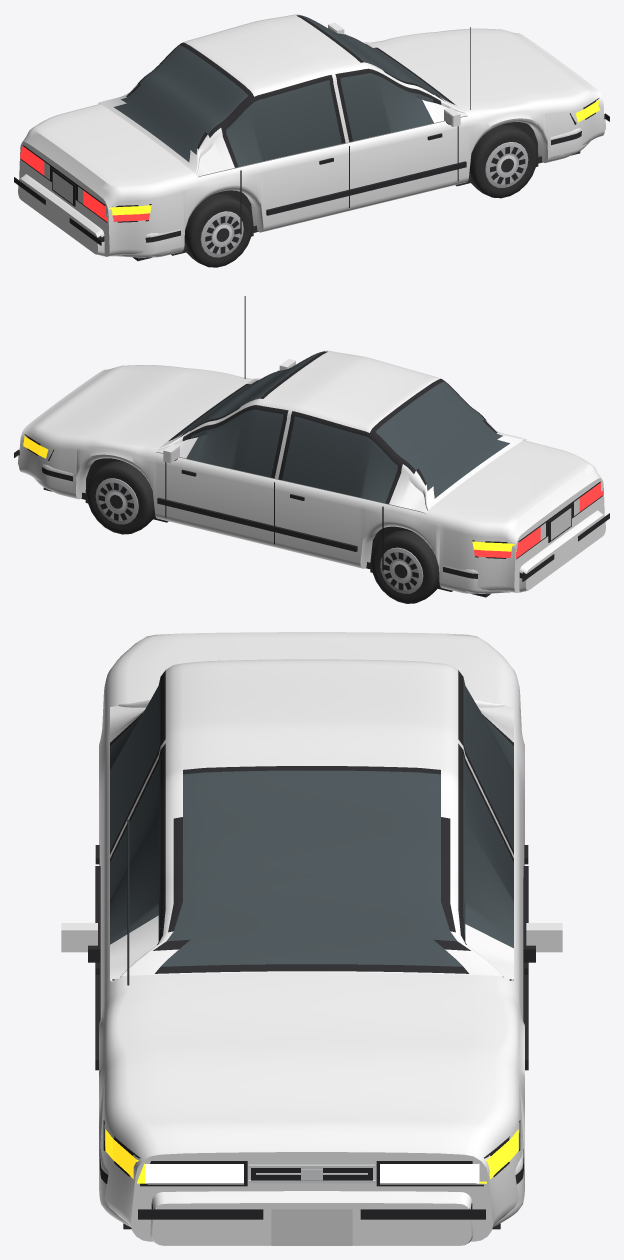
File: car_sedan.glb
3 renders of one model, top to bottom at view 1: azimuth 30°, elevation 25°; view 2: azimuth 150°, elevation 25°; view 3: azimuth 270°, elevation 25°, orthographic. The views are drawn at different scales.
Visible parts, largest first — view 1: body, wheel_RR, wheel_FR; view 2: body, wheel_RL, wheel_FL; view 3: body.
Boxes of the visible parts, <box> form: body: <box>14,14,609,261</box>; wheel_RR: <box>184,194,252,267</box>; wheel_FR: <box>469,125,537,198</box>; body: <box>14,296,609,597</box>; wheel_RL: <box>371,530,439,603</box>; wheel_FL: <box>86,461,154,534</box>; body: <box>61,632,562,1245</box>.
Size of the model in its own units: 4.83 by 1.58 by 2.06.
